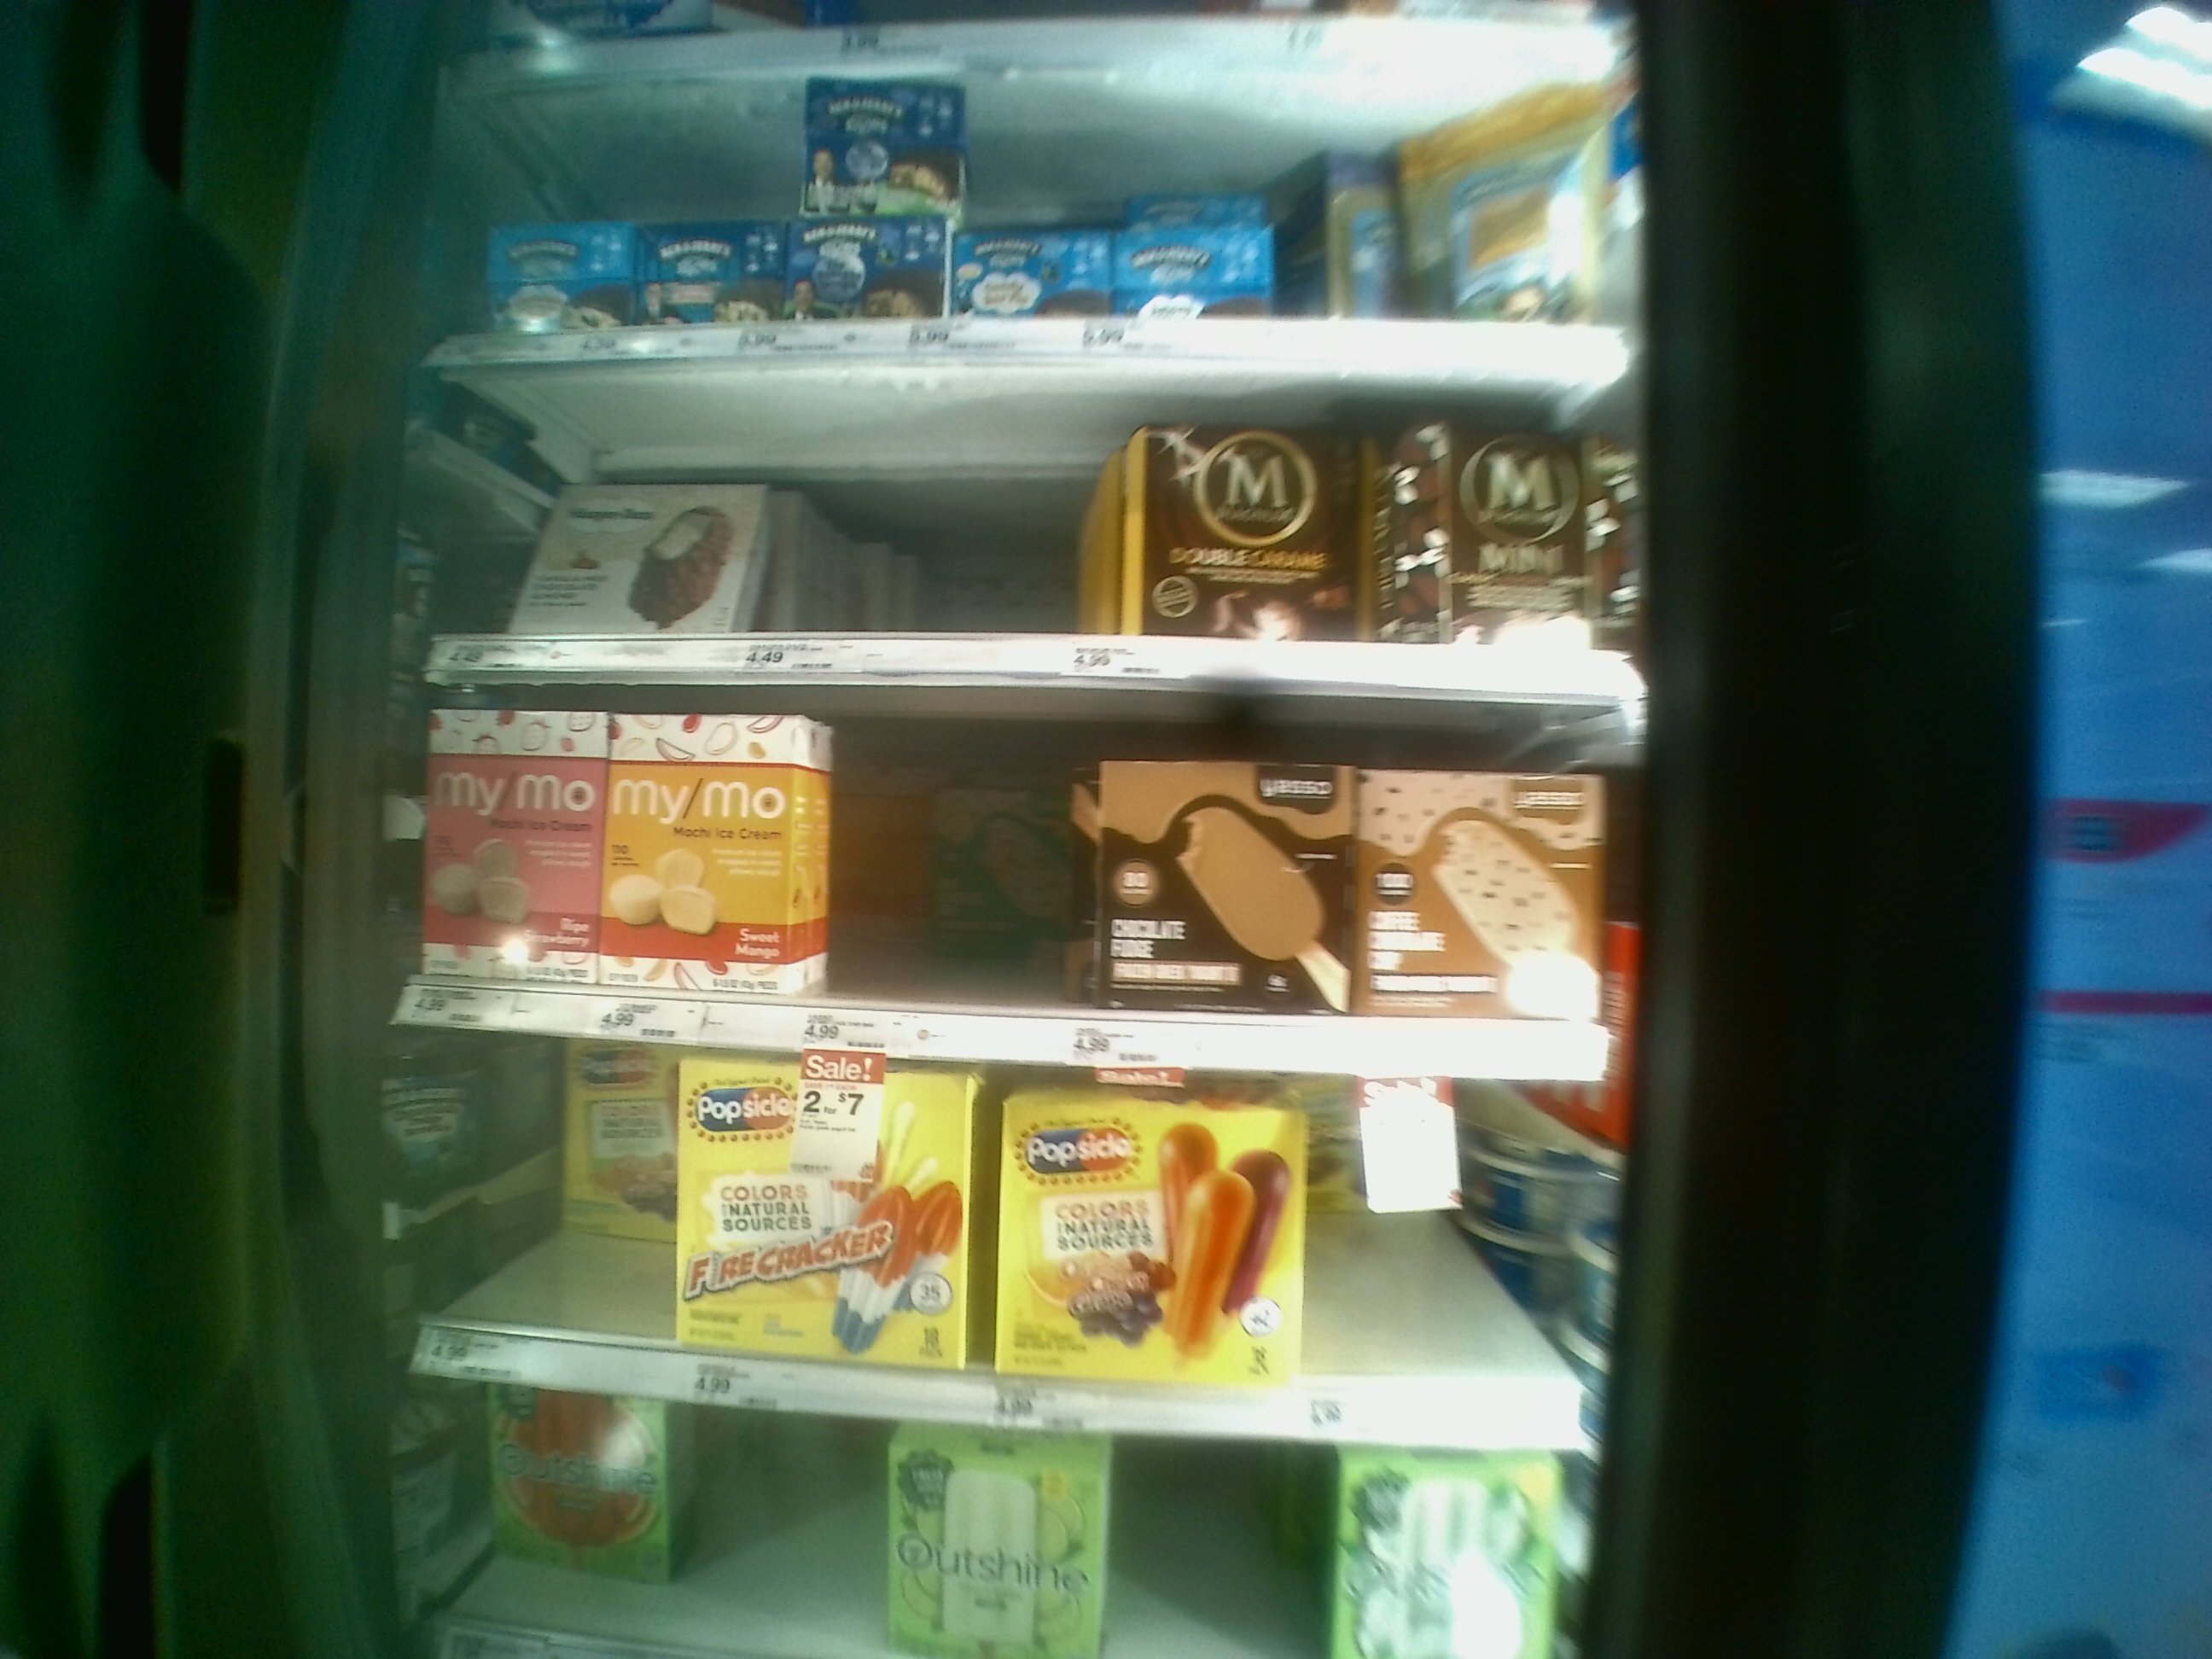shelf: (385, 1060, 1609, 1420), (399, 692, 1620, 1046), (408, 361, 1641, 697), (408, 51, 1639, 368)
